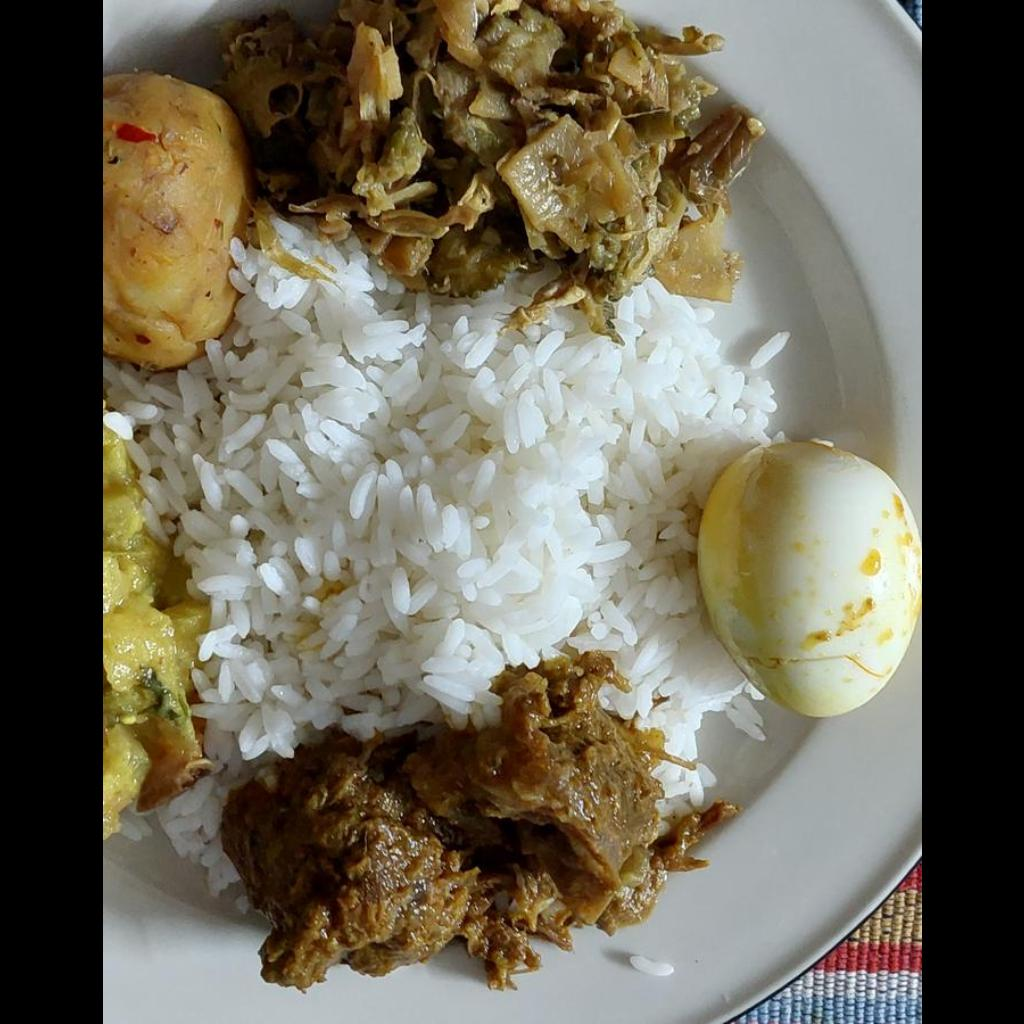beef: (227, 664, 671, 992)
egg-boiled: (698, 444, 920, 718)
potato-mashed: (103, 73, 236, 369)
rice: (113, 226, 792, 762)
vegetable: (230, 0, 756, 322), (102, 399, 208, 837)
